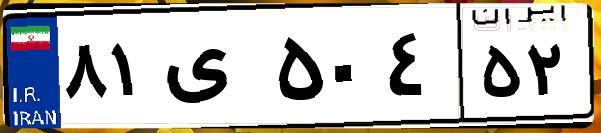0: (330, 28, 385, 110)
1: (110, 28, 158, 98)
2: (525, 38, 570, 115)
4: (385, 28, 445, 110)
5: (270, 28, 330, 110), (475, 38, 525, 113)
8: (57, 26, 110, 100)
ی: (158, 20, 270, 120)
